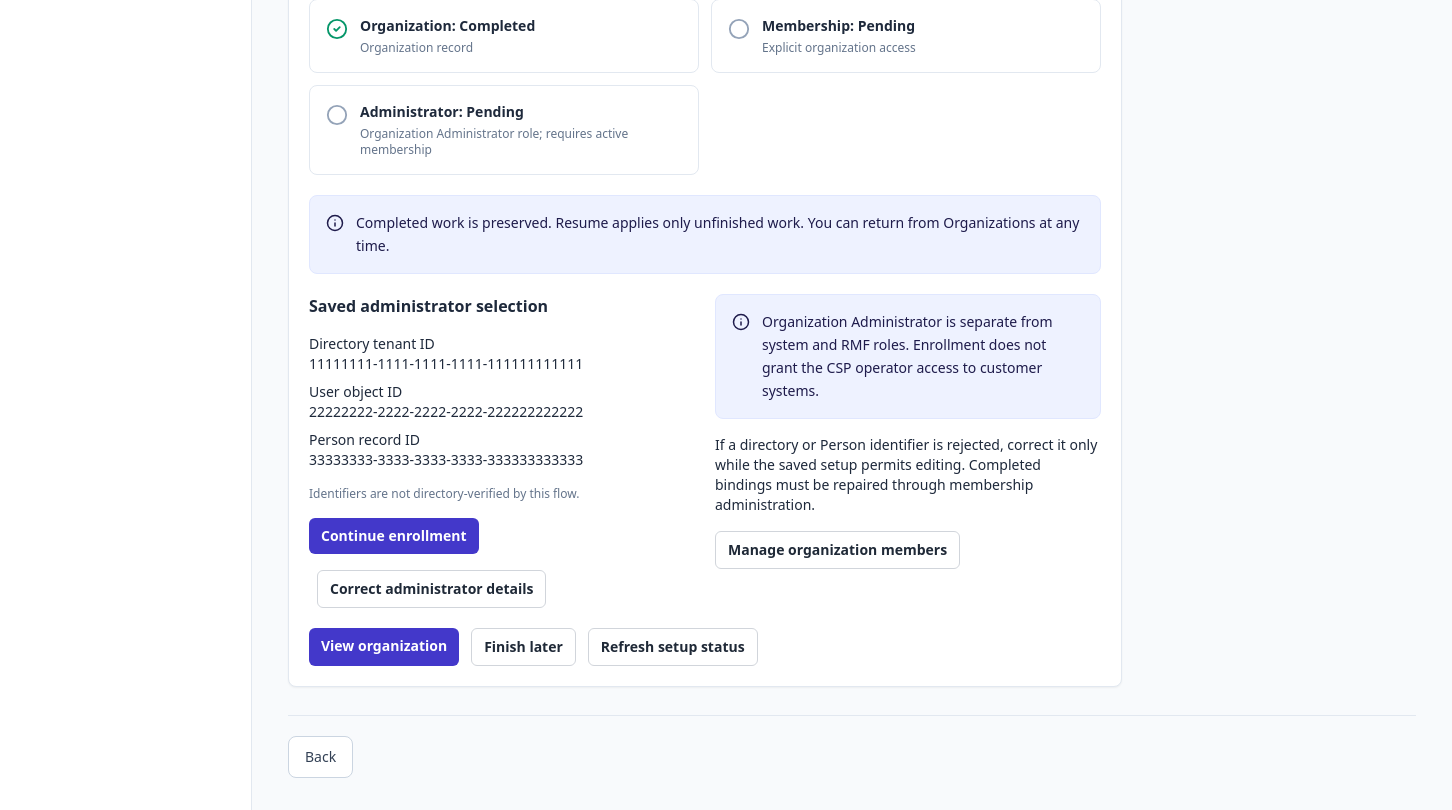
CSP Add Organization approved flow › reports failed saved-state reload after enrollment failure instead of displaying success
The image size is (1452, 810).
(page scrolled)
What coordinates should you click on to do the following:
click the button "Continue enrollment"
I would click on:
 (394, 536)
Its box is [309,518,478,554].
(page scrolled)
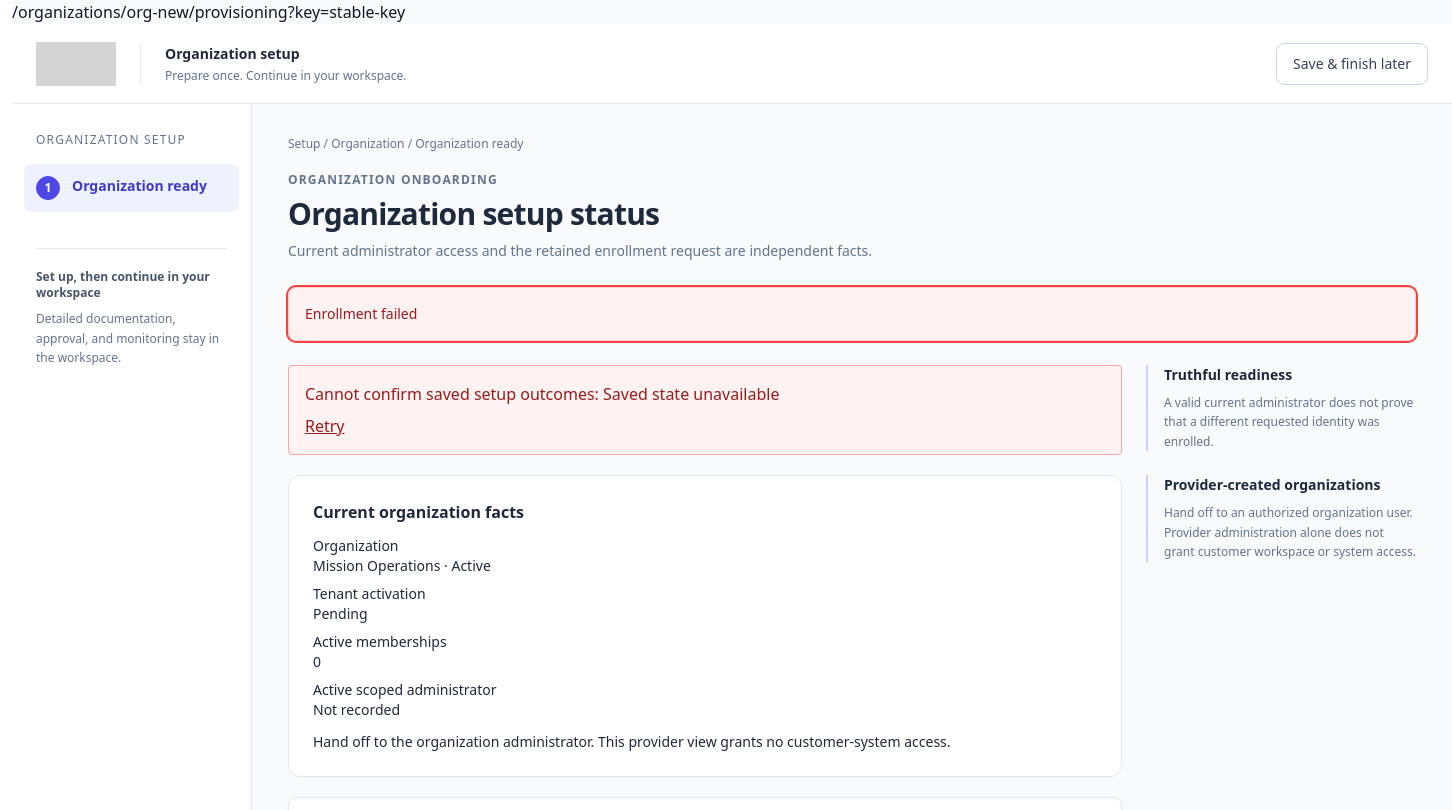
Result: the text "Cannot confirm saved setup outcomes: Saved state unavailable" is shown at [305,383,779,405]
